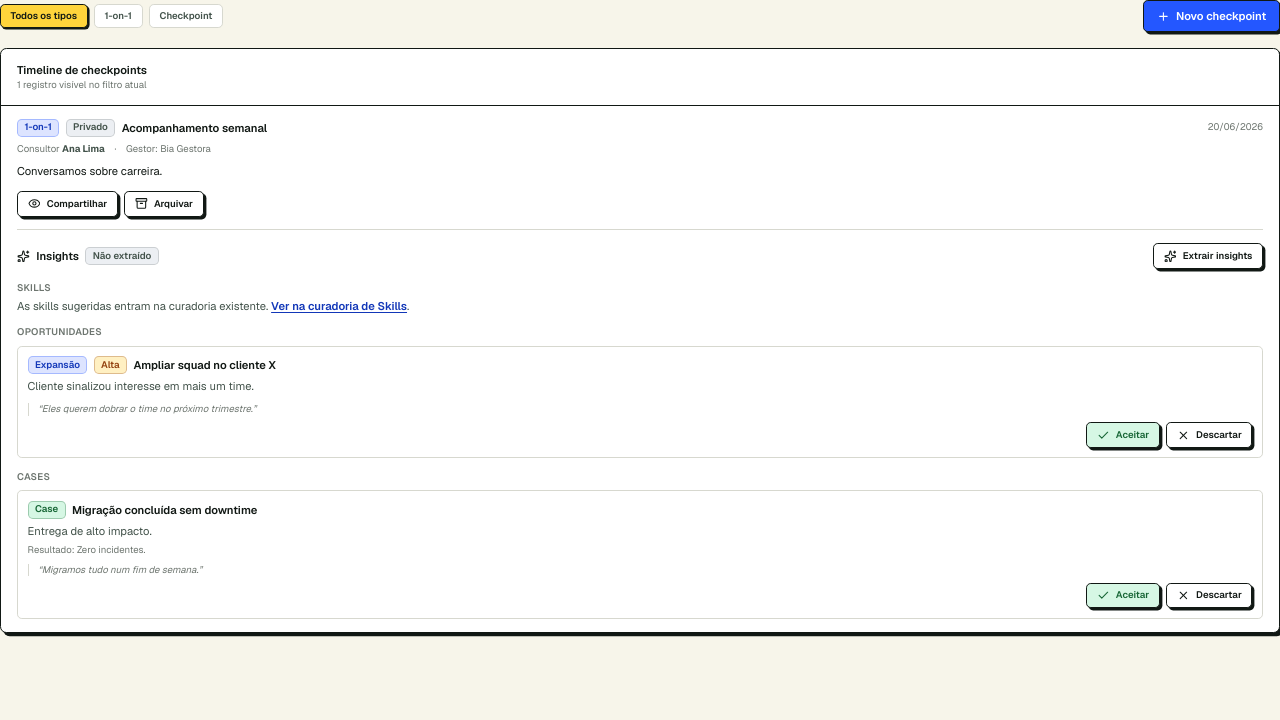
it: Insights panel (AI flag) › accepts an opportunity and reflects the decided status in the panel
The width and height of the screenshot is (1280, 720).
Click the 1st button "Aceitar" at {"x": 1123, "y": 435}, box [1086, 422, 1160, 448]
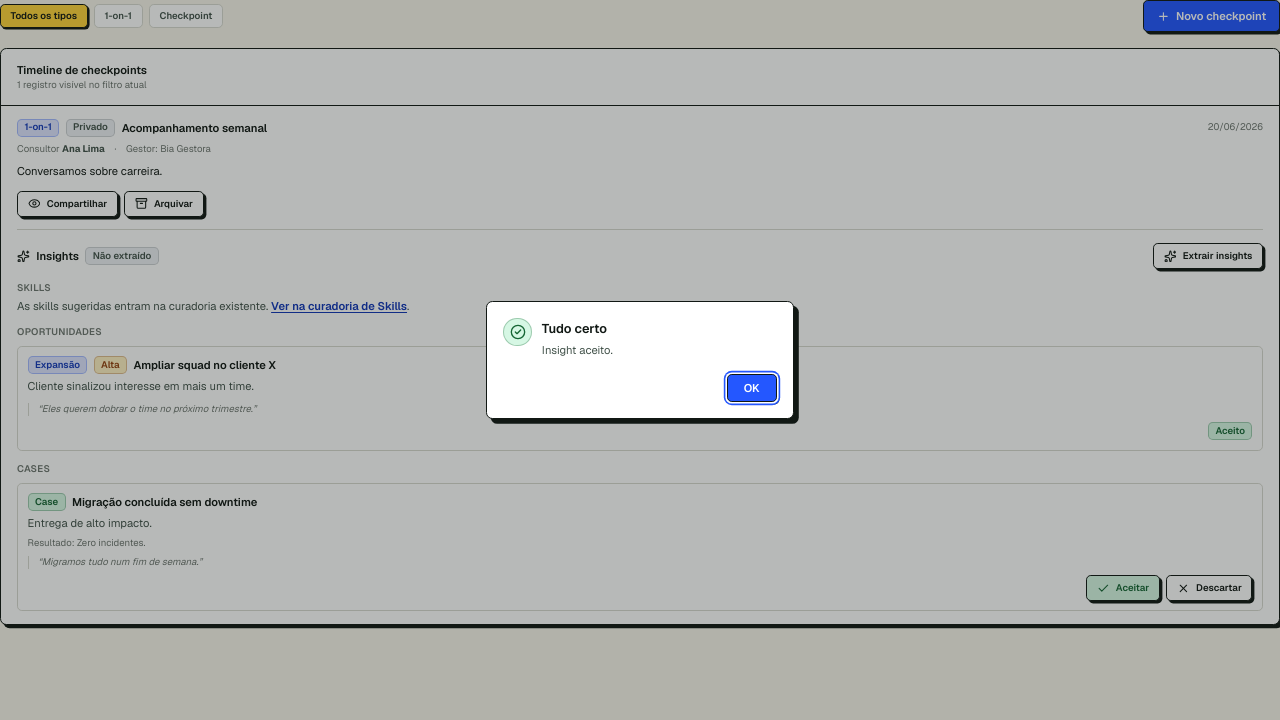
Expected: the text "Aceito" is shown, [1208, 422, 1252, 440]
